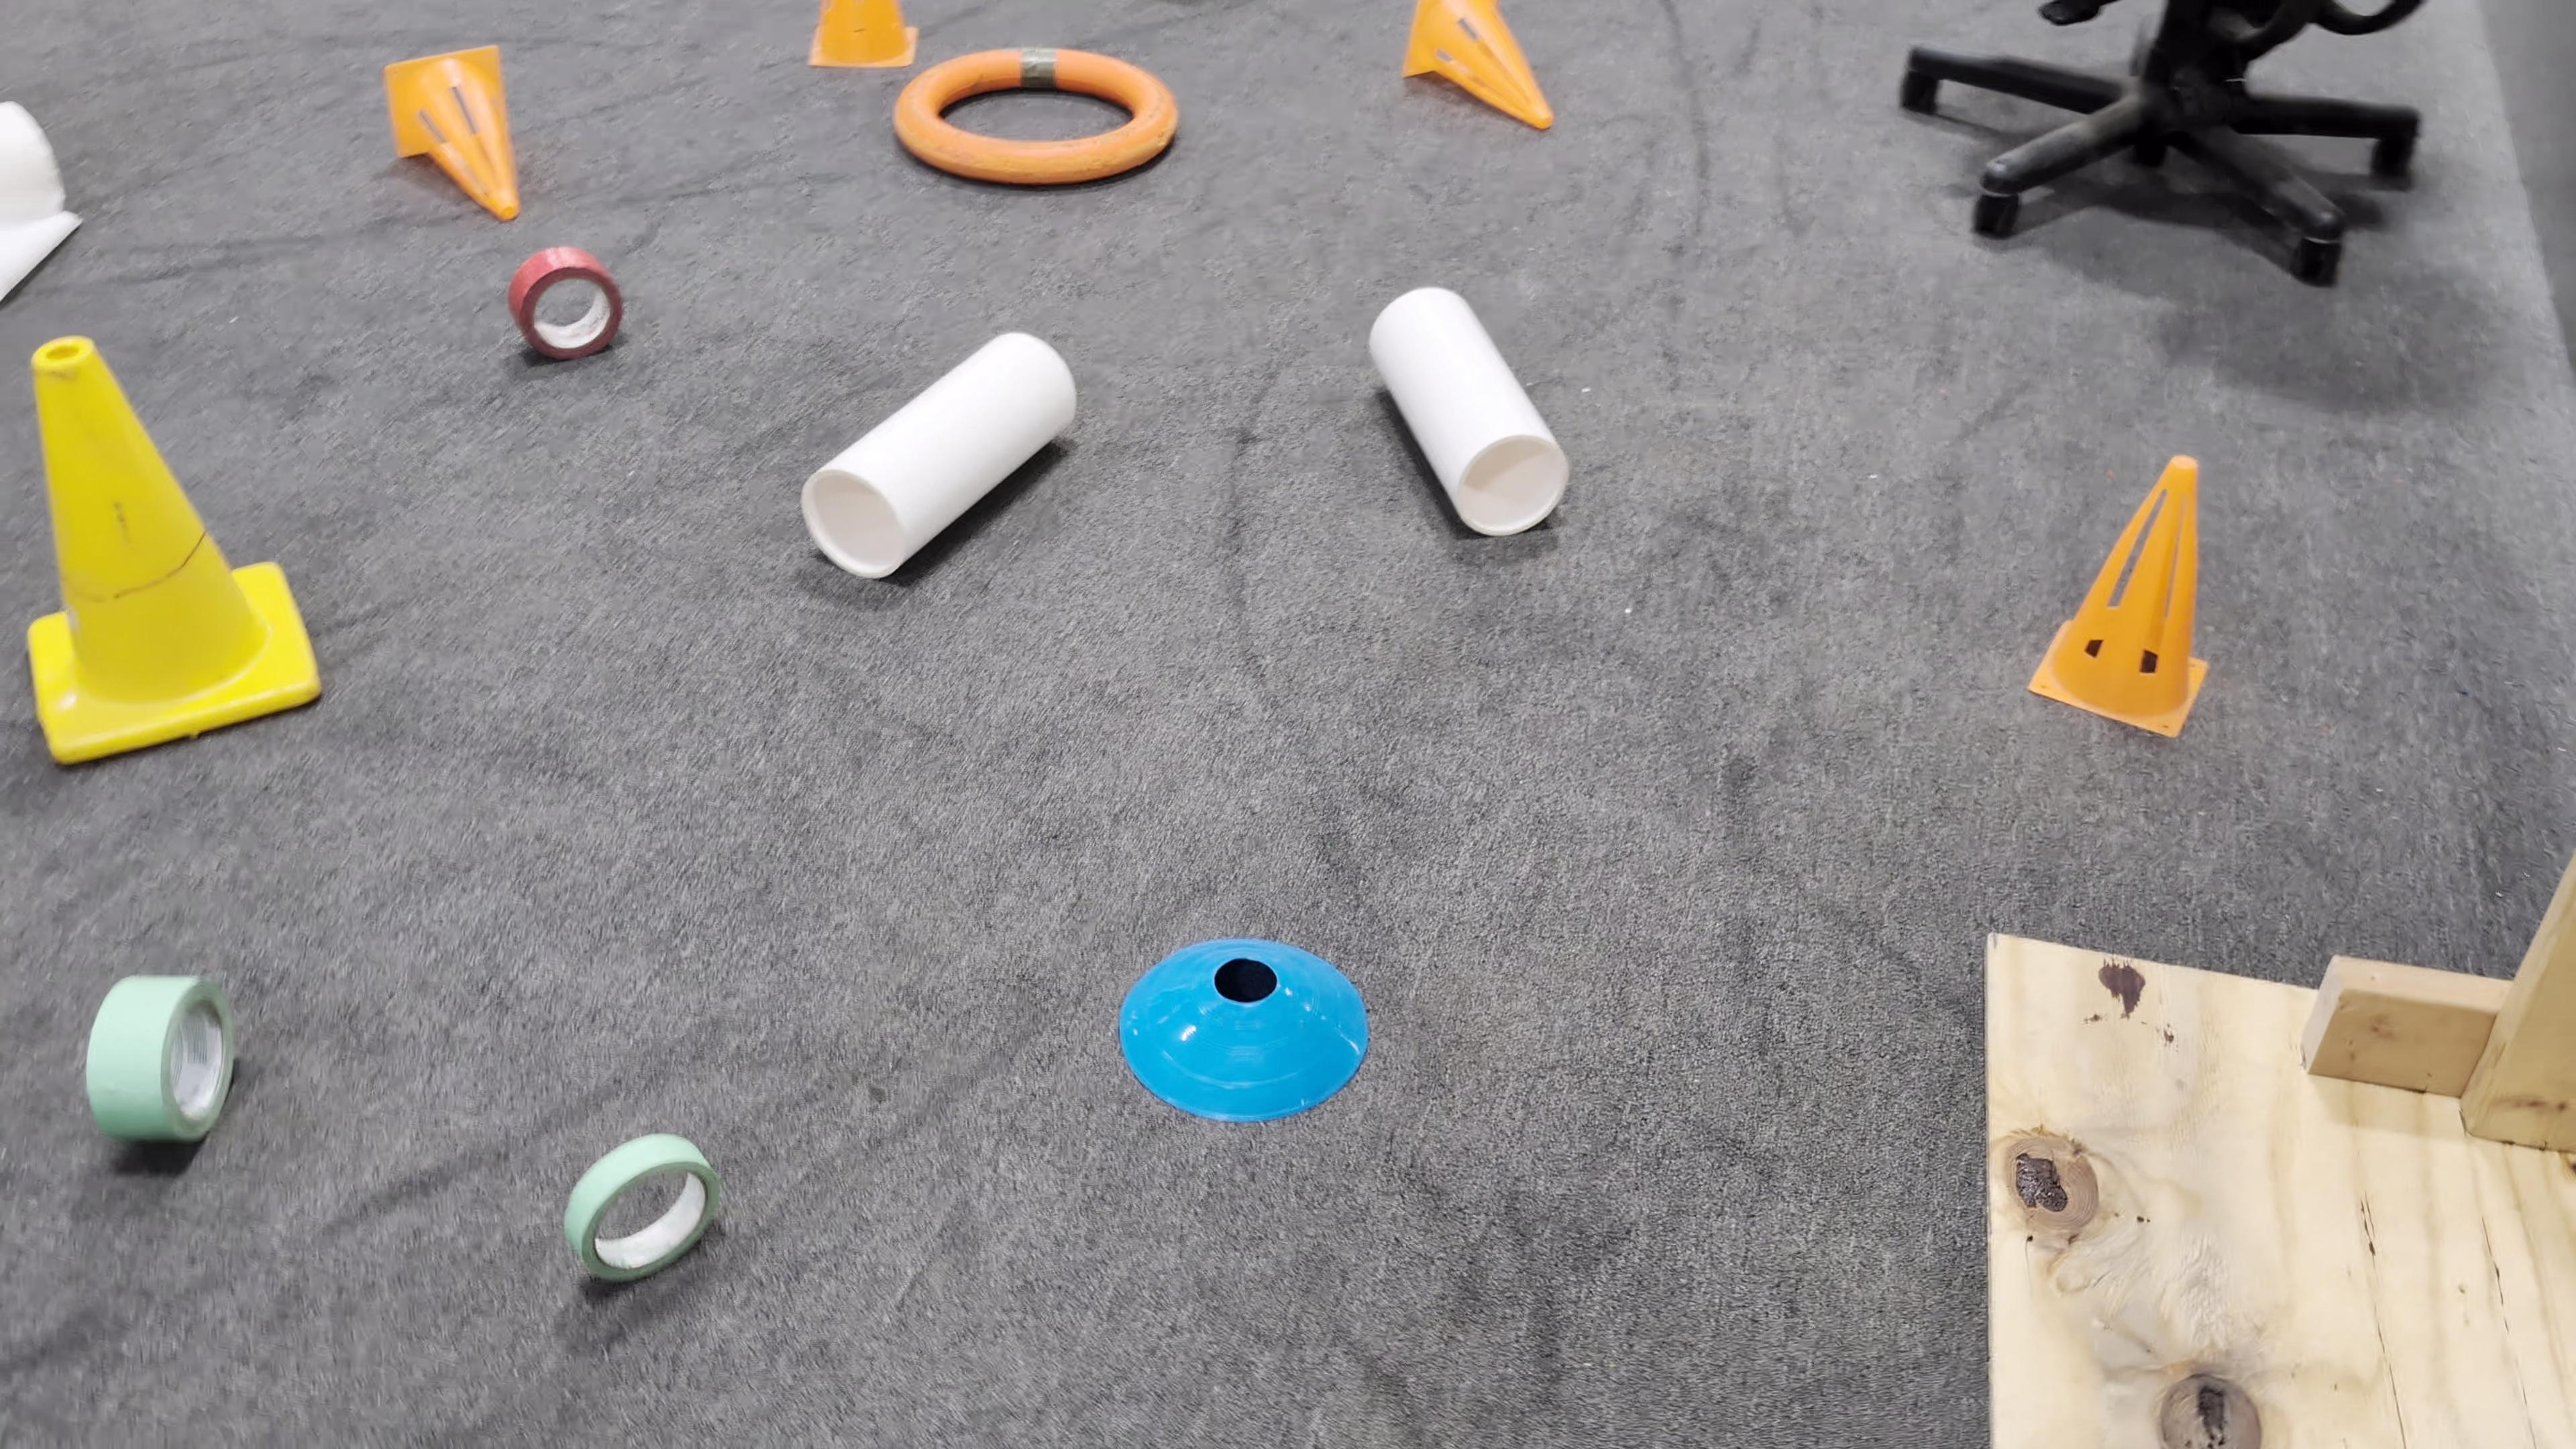coral: (800, 326, 1077, 579), (1368, 281, 1571, 538)
